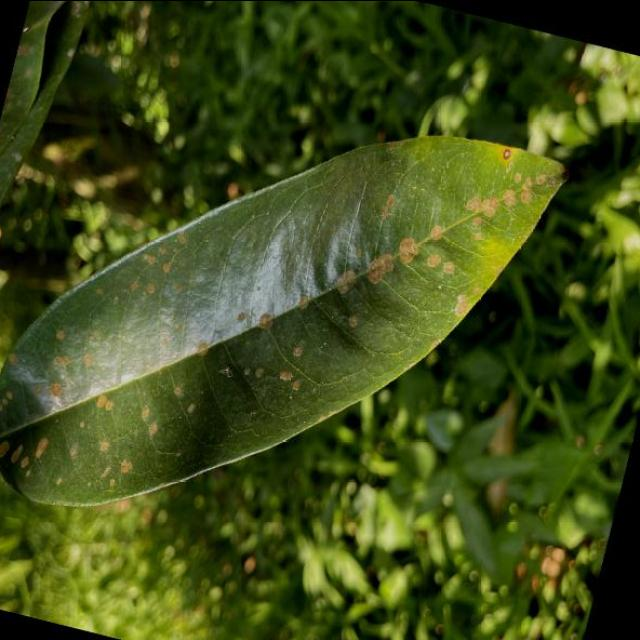Algal Leaf Spot: (0, 26, 584, 622)
